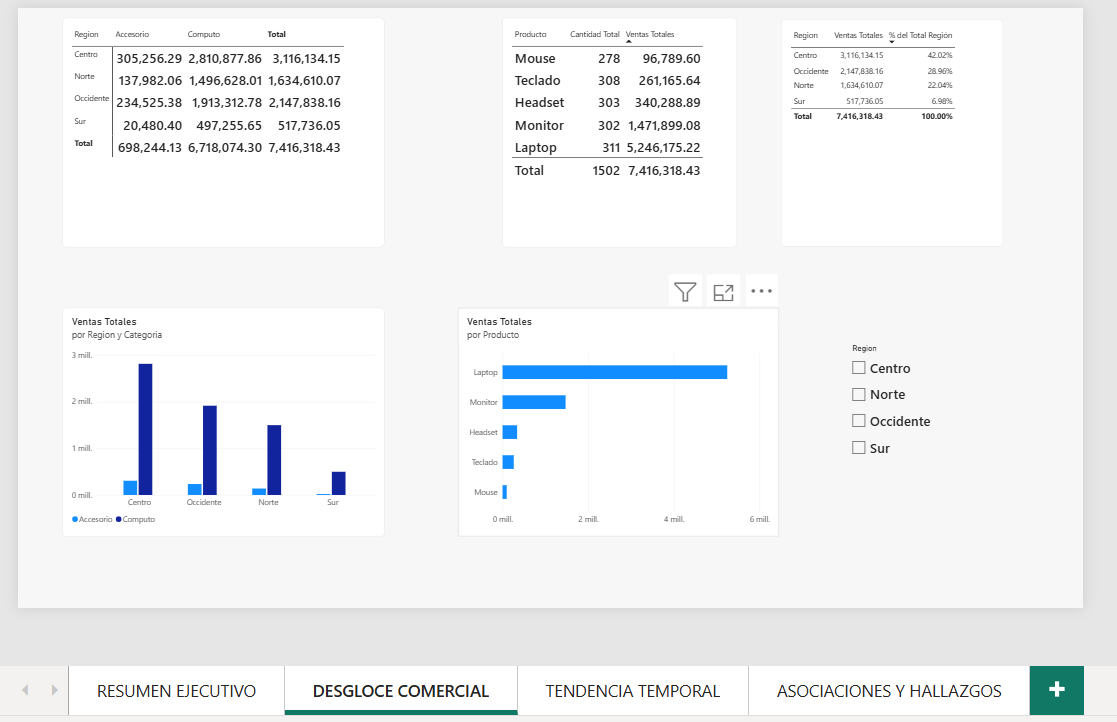

What the dashboard file says about the page in this screenshot:
{"tool":"powerbi","page":{"name":"DESGLOCE COMERCIAL","canvas":[1920,1080],"ordinal":1},"visuals":[{"type":"pivotTable","fields":{"Columns":["Dim Producto.Categoria"],"Rows":["Dim Cliente.Region"],"Values":["Medidas.Ventas Totales"]},"box":[80.5,17.5,580,413.3],"z":0},{"type":"tableEx","fields":{"Values":["Dim Producto.Producto","Medidas.Cantidad Total","Medidas.Ventas Totales"]},"box":[871.9,17.5,423.3,413.3],"z":1000},{"type":"slicer","fields":{"Values":["Dim Cliente.Region"]},"box":[1495,605,280,280],"z":2000},{"type":"clusteredColumnChart","fields":{"Category":["Dim Cliente.Region"],"Series":["Dim Producto.Categoria"],"Y":["Medidas.Ventas Totales"]},"box":[80,540,580,413],"z":3000},{"type":"clusteredBarChart","fields":{"Category":["Dim Producto.Producto"],"Y":["Medidas.Ventas Totales"]},"box":[792.5,540,580,413],"z":4000},{"type":"tableEx","fields":{"Values":["Dim Cliente.Region","Medidas.Ventas Totales","Medidas.% del Total Región"]},"box":[1375,20,400,410],"z":5000}]}

Visuals, with their boxes on the page's 1920x1080 design canvas (x1, y1, x2, y2). These are canvas units, not pixel positions in the 1117x722 screenshot, which may show the page scaled, cropped or inside an application window:
pivotTable - Dim Producto.Categoria x Dim Cliente.Region: bbox=[80, 18, 660, 431]
tableEx - Dim Producto.Producto x Medidas.Cantidad Total: bbox=[872, 18, 1295, 431]
slicer - Dim Cliente.Region: bbox=[1495, 605, 1775, 885]
clusteredColumnChart - Dim Cliente.Region x Dim Producto.Categoria: bbox=[80, 540, 660, 953]
clusteredBarChart - Dim Producto.Producto x Medidas.Ventas Totales: bbox=[792, 540, 1372, 953]
tableEx - Dim Cliente.Region x Medidas.Ventas Totales: bbox=[1375, 20, 1775, 430]
